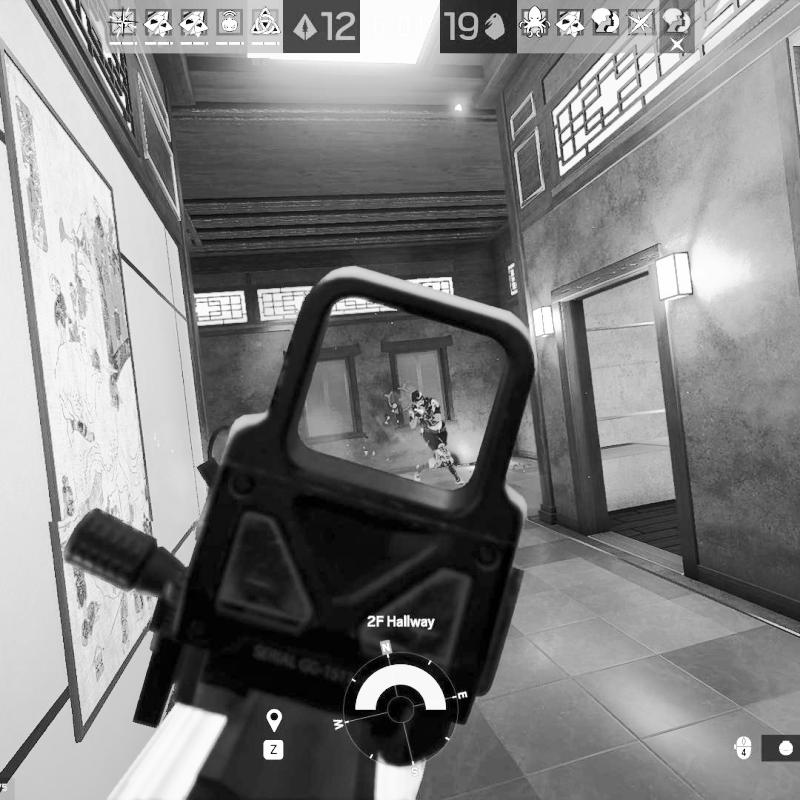Character: (407, 388, 468, 488)
Head: (411, 390, 424, 405)
